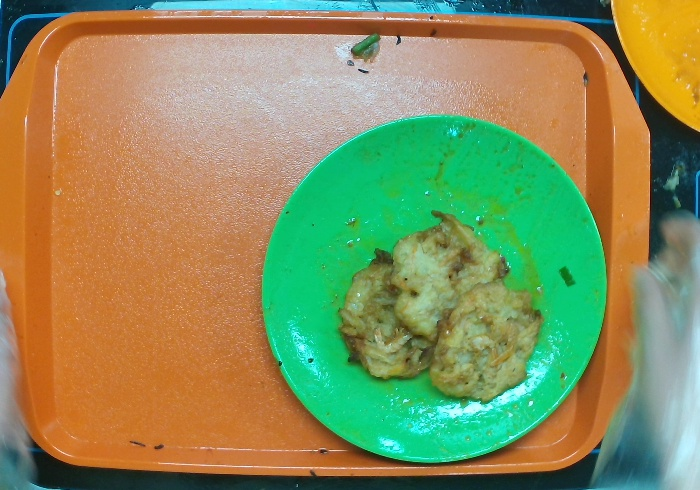HZYJPL-Lv_Se_Yuan_Pan: (259, 113, 608, 466)
